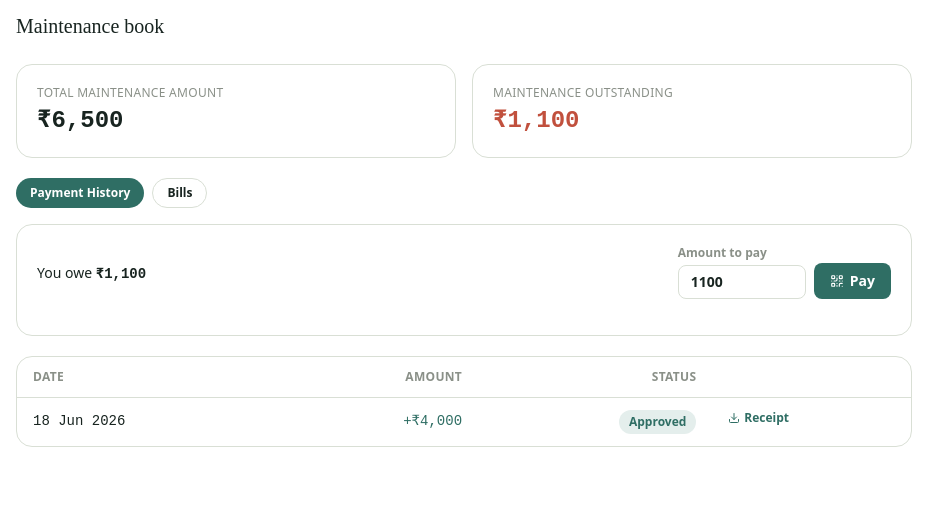
MaintenanceBookPage › switches to the Bills tab: shows only SYSTEM charges, not Deposit/Credit rows, each with its own settlement status
The image size is (929, 518).
What coordinates should you click on to do the following:
click the tab "Bills"
I would click on:
 (180, 193)
Its box is [152,178,207,208].
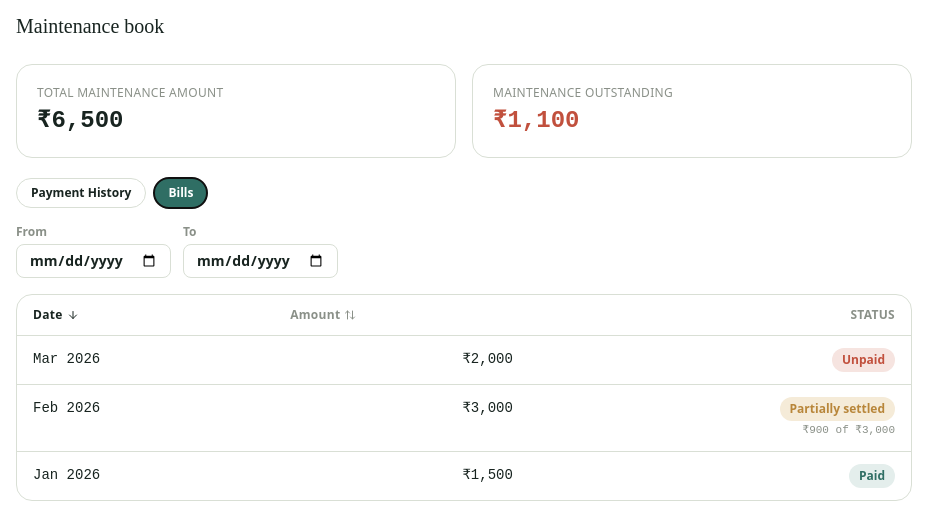
Now the text "Mar 2026" is shown, box [33,351,100,367]
Now the text "Jan 2026" is shown, box [33,467,100,483]
Now the text "Feb 2026" is shown, box [33,400,100,416]
